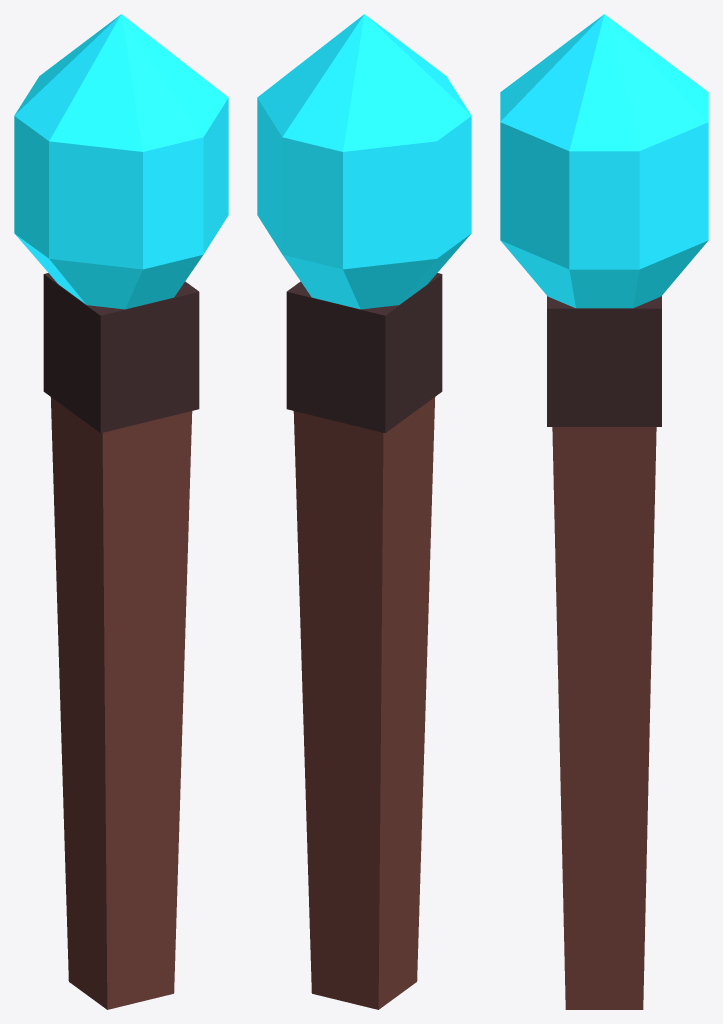
Rendered from Scepter.fbx.
3 views of the same model, side by side, from view 1: azimuth 30°, elevation 25°; view 2: azimuth 150°, elevation 25°; view 3: azimuth 270°, elevation 25° (orthographic).
Visible parts, largest first — view 1: Cube; view 2: Cube; view 3: Cube.
Boxes of the visible parts, x1,y1,x2,y2 form: Cube: (14,14,228,1009); Cube: (257,14,471,1009); Cube: (500,14,708,1009).
Size of the model in its own units: 400 by 2072 by 400.
